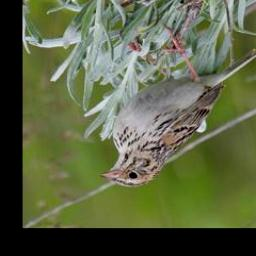Sparrow: (99, 24, 256, 189)
